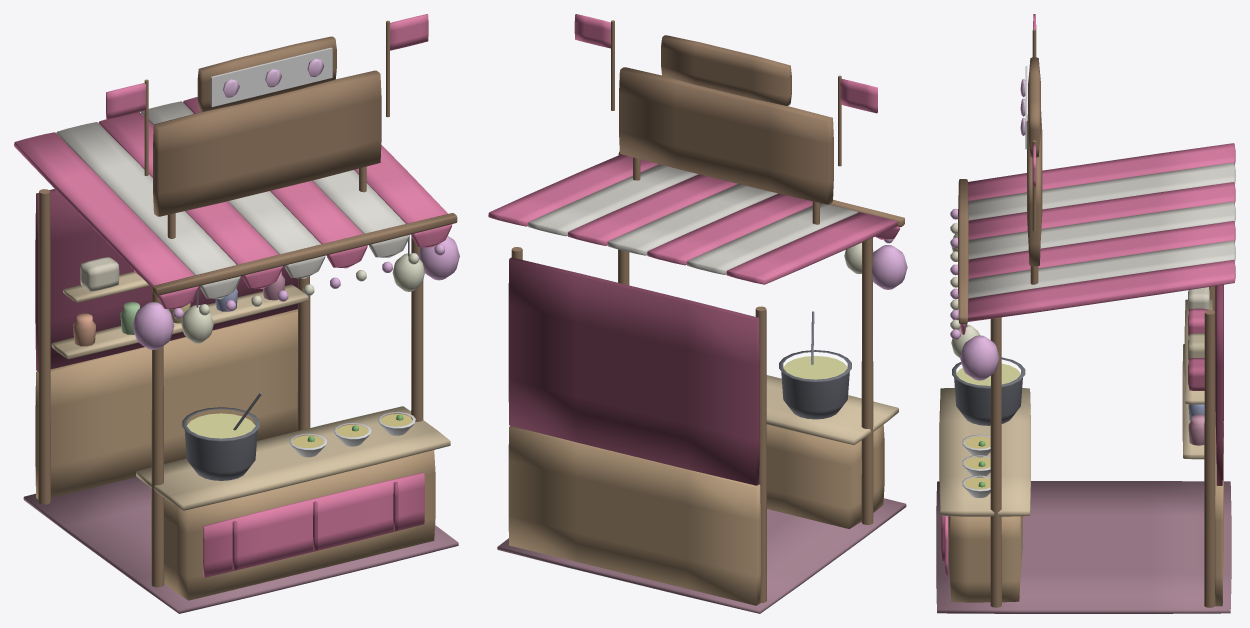
File: stall_noodles.glb
3 views of the same model, side by side, from view 1: azimuth 30°, elevation 25°; view 2: azimuth 150°, elevation 25°; view 3: azimuth 270°, elevation 25° (orthographic). The views are drawn at different scales.
Visible parts, largest first — view 1: body, level3, level2; view 2: body, level3, level2; view 3: body, level2, level3.
Boxes of the visible parts, <box> form: body: <box>14,70,458,613</box>; level3: <box>106,14,428,175</box>; level2: <box>63,236,459,349</box>; body: <box>488,67,906,613</box>; level3: <box>574,14,877,166</box>; level2: <box>871,239,907,289</box>; body: <box>936,112,1235,613</box>; level2: <box>950,208,1212,404</box>; level3: <box>1020,14,1040,231</box>.
Size of the model in its own units: 3.2 by 4.68 by 2.73.
